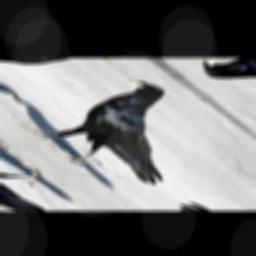Crow: (10, 75, 250, 197)
